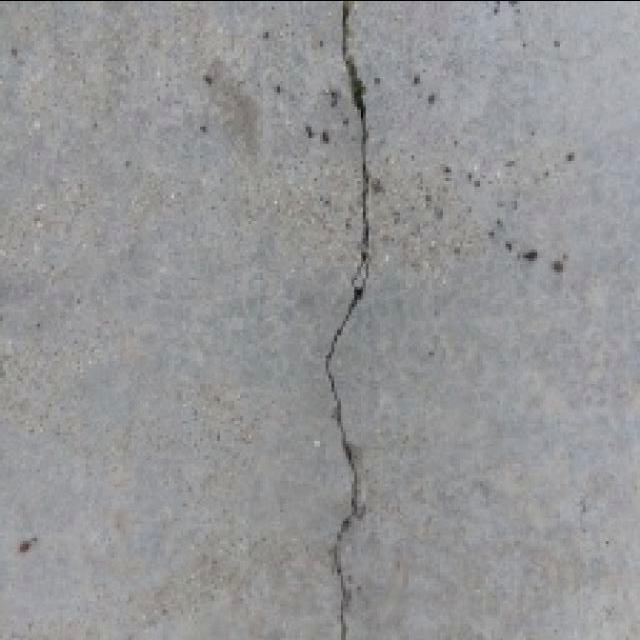SurfaceCrack: (298, 0, 396, 638)
